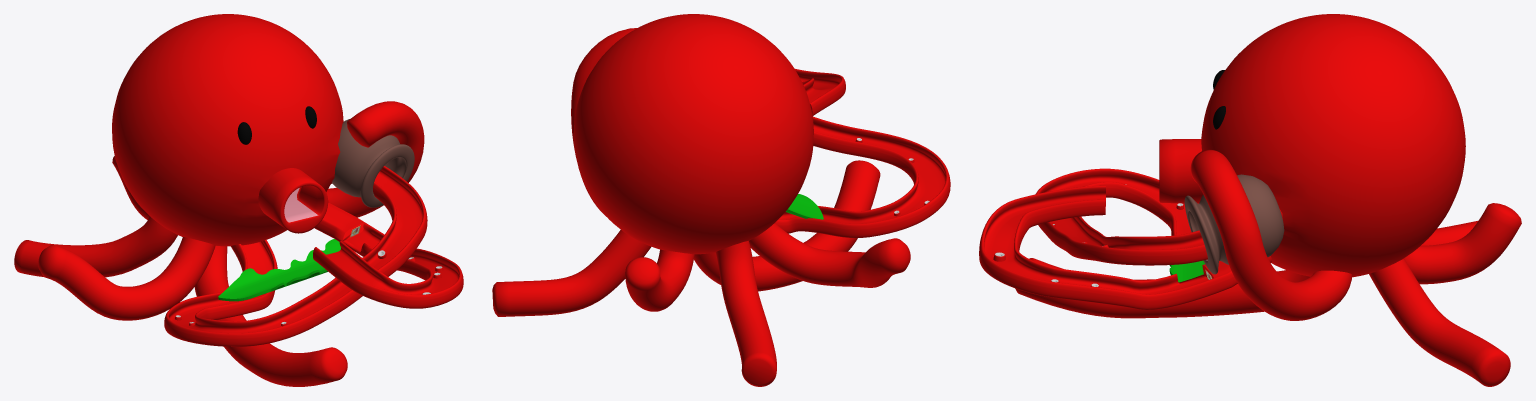
Rendered from miscart_octpas_1.2.fbx.
3 renders of one model, left to right at view 1: azimuth 30°, elevation 25°; view 2: azimuth 150°, elevation 25°; view 3: azimuth 270°, elevation 25°, orthographic. The views are drawn at different scales.
Parts seen in each view (by area): view 1: tako_head, leg_01.001, leg_02, leg_03, leg_04, leg_05, tsubo, leg_08, tako_mouse, wakame, tako_eye; view 2: tako_head, leg_01.001, leg_03, leg_07, leg_05, leg_04, leg_06, leg_02, leg_08, wakame; view 3: tako_head, leg_02, leg_08, leg_01.001, leg_07, leg_06, leg_04, tsubo, tako_mouse, leg_05, wakame.
Boxes of the visible parts, x1,y1,x2,y2 form: tako_head: [112, 14, 343, 246]; leg_01.001: [164, 166, 427, 346]; leg_02: [313, 202, 463, 308]; leg_03: [38, 237, 215, 320]; leg_04: [194, 246, 347, 386]; leg_05: [14, 216, 177, 277]; tsubo: [332, 119, 414, 207]; leg_08: [326, 101, 424, 217]; tako_mouse: [258, 168, 332, 233]; wakame: [218, 239, 340, 301]; tako_eye: [237, 106, 316, 144]; tako_head: [573, 14, 813, 254]; leg_01.001: [775, 116, 950, 237]; leg_03: [749, 223, 910, 287]; leg_07: [492, 230, 651, 316]; leg_05: [715, 241, 776, 386]; leg_04: [694, 160, 880, 291]; leg_06: [625, 249, 694, 311]; leg_02: [795, 69, 845, 115]; leg_08: [571, 28, 636, 216]; wakame: [786, 194, 823, 219]; tako_head: [1201, 14, 1465, 277]; leg_02: [979, 185, 1271, 309]; leg_08: [1190, 149, 1352, 320]; leg_01.001: [1036, 168, 1207, 265]; leg_07: [1369, 258, 1510, 386]; leg_06: [1404, 203, 1521, 284]; leg_04: [1015, 258, 1310, 318]; tsubo: [1184, 174, 1284, 274]; tako_mouse: [1159, 139, 1282, 219]; leg_05: [1421, 220, 1478, 245]; wakame: [1169, 260, 1204, 282].
Size of the model in its own units: 2995 by 2265 by 3522.
